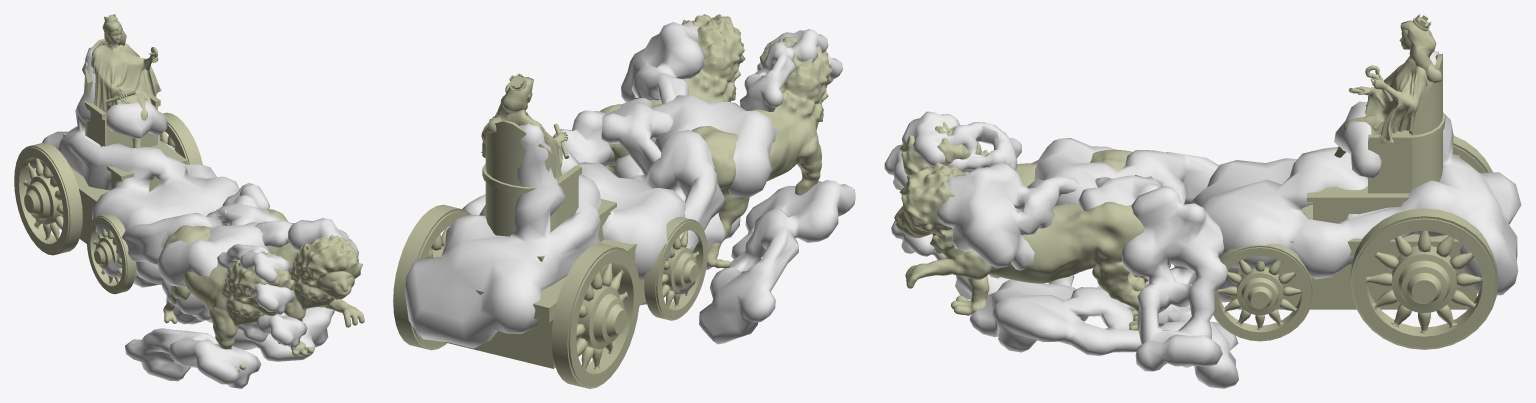
File: RigCibeles.fbx
3 views of the same model, side by side, from view 1: azimuth 30°, elevation 25°; view 2: azimuth 150°, elevation 25°; view 3: azimuth 270°, elevation 25° (orthographic). The views are drawn at different scales.
Visible parts, largest first — view 1: NieveCibeles, RuedaExt, NieveCibeles.002, Mball.4825, Mball.001, NieveCibeles.007, Plane, RuedaExt.001, NieveCibeles.001, NieveCibeles.008, NieveCibeles.003, Cube (+10 smaller); view 2: NieveCibeles, RuedaExt, NieveCibeles.007, NieveCibeles.002, Mball.4825, Cube, NieveCibeles.003, Mball.001, RuedaExt.001, NieveCibeles.001, Carro, NieveCibeles.004 (+6 smaller); view 3: NieveCibeles, Mball.001, NieveCibeles.009, RuedaExt, NieveCibeles.008, NieveCibeles.003, NieveCibeles.002, Cube, RuedaExt.001, NieveCibeles.004, Carro, RuedaMed (+10 smaller).
Boxes of the visible parts, x1=… form: NieveCibeles: x1=42, y1=47, x2=239, y2=284; RuedaExt: x1=14, y1=112, x2=202, y2=255; NieveCibeles.002: x1=103, y1=213, x2=269, y2=287; Mball.4825: x1=163, y1=225, x2=294, y2=372; Mball.001: x1=267, y1=209, x2=364, y2=356; NieveCibeles.007: x1=125, y1=328, x2=261, y2=388; Plane: x1=91, y1=43, x2=161, y2=112; RuedaExt.001: x1=87, y1=214, x2=136, y2=294; NieveCibeles.001: x1=161, y1=194, x2=279, y2=324; NieveCibeles.008: x1=187, y1=307, x2=334, y2=361; NieveCibeles.003: x1=255, y1=218, x2=358, y2=257; Cube: x1=84, y1=39, x2=160, y2=148; NieveCibeles: x1=404, y1=123, x2=686, y2=348; RuedaExt: x1=393, y1=204, x2=639, y2=388; NieveCibeles.007: x1=699, y1=180, x2=855, y2=344; NieveCibeles.002: x1=614, y1=95, x2=778, y2=304; Mball.4825: x1=691, y1=37, x2=832, y2=268; Cube: x1=482, y1=120, x2=581, y2=236; NieveCibeles.003: x1=621, y1=22, x2=703, y2=103; Mball.001: x1=600, y1=14, x2=745, y2=173; RuedaExt.001: x1=644, y1=216, x2=707, y2=320; NieveCibeles.001: x1=601, y1=98, x2=740, y2=269; Carro: x1=436, y1=239, x2=645, y2=368; NieveCibeles.004: x1=740, y1=29, x2=828, y2=111; NieveCibeles: x1=1174, y1=51, x2=1521, y2=302; Mball.001: x1=894, y1=162, x2=1145, y2=330; NieveCibeles.009: x1=1122, y1=186, x2=1228, y2=371; RuedaExt: x1=1350, y1=135, x2=1498, y2=349; NieveCibeles.008: x1=969, y1=279, x2=1238, y2=388; NieveCibeles.003: x1=937, y1=162, x2=1078, y2=270; NieveCibeles.002: x1=1032, y1=138, x2=1218, y2=205; Cube: x1=1368, y1=53, x2=1445, y2=193; RuedaExt.001: x1=1213, y1=162, x2=1312, y2=341; NieveCibeles.004: x1=902, y1=111, x2=1021, y2=171; Carro: x1=1226, y1=204, x2=1476, y2=309; RuedaMed: x1=1366, y1=231, x2=1482, y2=333.
Bounding box in the file's own units: 14190 × 17084 × 27313.
